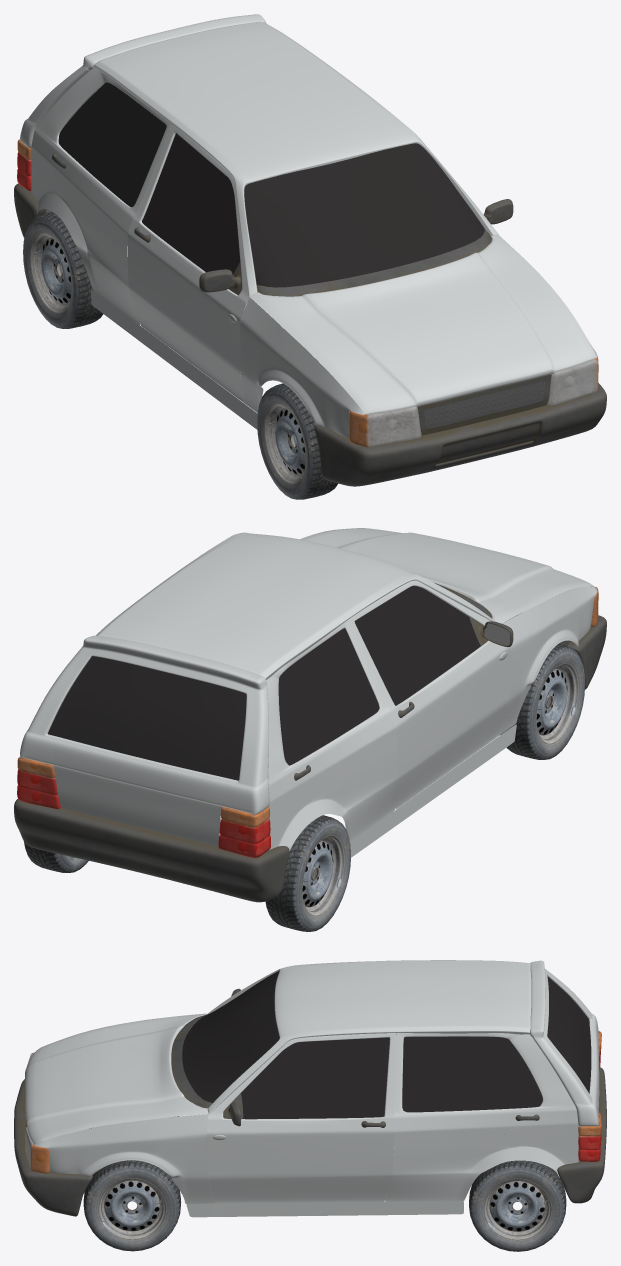
The model's file is fiat-uno-2001.glb.
3 renders of one model, top to bottom at view 1: azimuth 30°, elevation 25°; view 2: azimuth 150°, elevation 25°; view 3: azimuth 270°, elevation 25°, orthographic. The views are drawn at different scales.
Parts seen in each view (by area): view 1: Plano.001, Plano.022, Plano.016, Plano.024, Plano.025, Plano.027, Plano.017, Plano.018, Plano.021, Wheel_Wheel_0_w0, Wheel.001_Wheel_0_w2, Plano.028 (+8 smaller); view 2: Plano.022, Plano.023, Plano.005, Plano.025, Plano.024, Plano.033, Plano.001, Plano.017, Plano.018, Wheel_Wheel_0_w0, Wheel.001_Wheel_0_w2, Plano.021 (+4 smaller); view 3: Plano.022, Plano.024, Plano.025, Plano.001, Plano.017, Plano.018, Plano.021, Plano.016, Wheel_Wheel_0_w1, Wheel.001_Wheel_0_w3, Plano.023, Plano.026 (+7 smaller).
Part boxes in pixels (left/top/right/bottom): Plano.001: left=250, top=235, right=595, bottom=414; Plano.022: left=93, top=21, right=499, bottom=300; Plano.016: left=244, top=143, right=484, bottom=287; Plano.024: left=127, top=124, right=249, bottom=401; Plano.025: left=31, top=67, right=171, bottom=324; Plano.027: left=314, top=383, right=606, bottom=486; Plano.017: left=142, top=133, right=240, bottom=274; Plano.018: left=58, top=82, right=166, bottom=207; Plano.021: left=240, top=297, right=597, bottom=438; Wheel_Wheel_0_w0: left=23, top=212, right=103, bottom=328; Wheel.001_Wheel_0_w2: left=257, top=383, right=337, bottom=499; Plano.028: left=349, top=356, right=598, bottom=447; Plano.022: left=96, top=532, right=495, bottom=679; Plano.023: left=20, top=635, right=269, bottom=846; Plano.005: left=48, top=656, right=246, bottom=780; Plano.025: left=266, top=620, right=397, bottom=850; Plano.024: left=348, top=580, right=510, bottom=809; Plano.033: left=14, top=799, right=289, bottom=902; Plano.001: left=300, top=528, right=595, bottom=623; Plano.017: left=354, top=585, right=480, bottom=705; Plano.018: left=278, top=628, right=379, bottom=765; Wheel_Wheel_0_w0: left=265, top=815, right=350, bottom=931; Wheel.001_Wheel_0_w2: left=501, top=643, right=585, bottom=759; Plano.021: left=498, top=586, right=597, bottom=735; Plano.022: left=207, top=960, right=531, bottom=1113; Plano.024: left=207, top=1033, right=396, bottom=1203; Plano.025: left=385, top=1033, right=578, bottom=1201; Plano.001: left=25, top=1013, right=208, bottom=1144; Plano.017: left=240, top=1037, right=389, bottom=1119; Plano.018: left=402, top=1036, right=542, bottom=1112; Plano.021: left=35, top=1018, right=214, bottom=1203; Plano.016: left=182, top=971, right=279, bottom=1103; Wheel_Wheel_0_w1: left=469, top=1160, right=566, bottom=1251; Wheel.001_Wheel_0_w3: left=83, top=1160, right=181, bottom=1251; Plano.023: left=530, top=960, right=599, bottom=1126; Plano.026: left=186, top=1201, right=463, bottom=1217.
Bounding box in the file's own units: 1.85 × 1.44 × 3.69.
4 materials, 3 textured.
